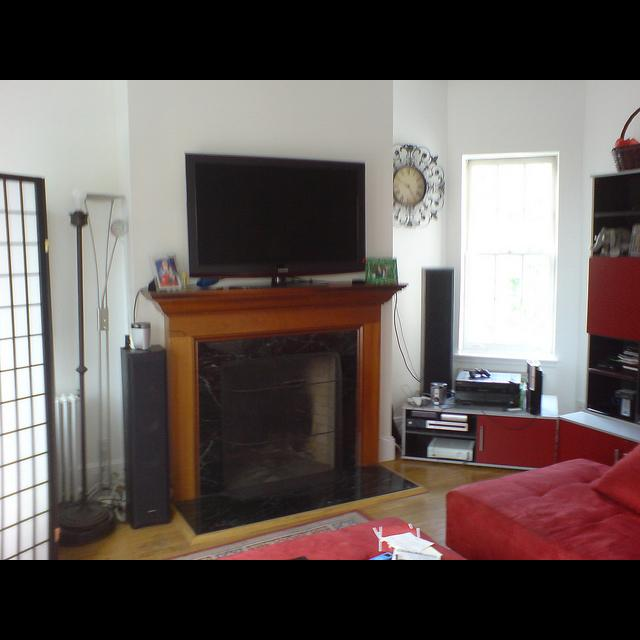Flat-Panel-TV: (182, 149, 373, 285)
